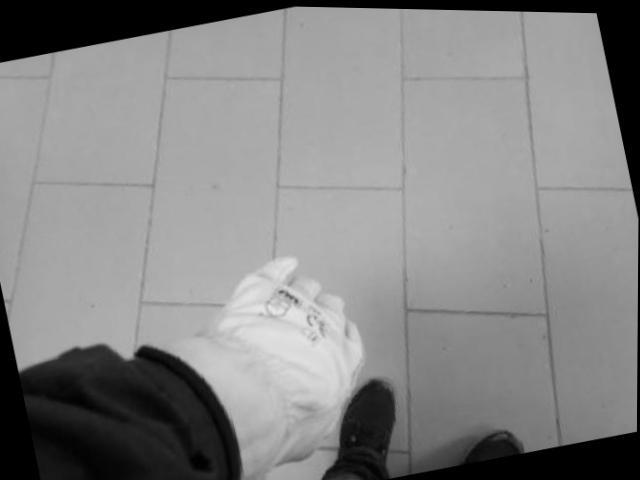Hand-in-Glove: (136, 245, 388, 480)
